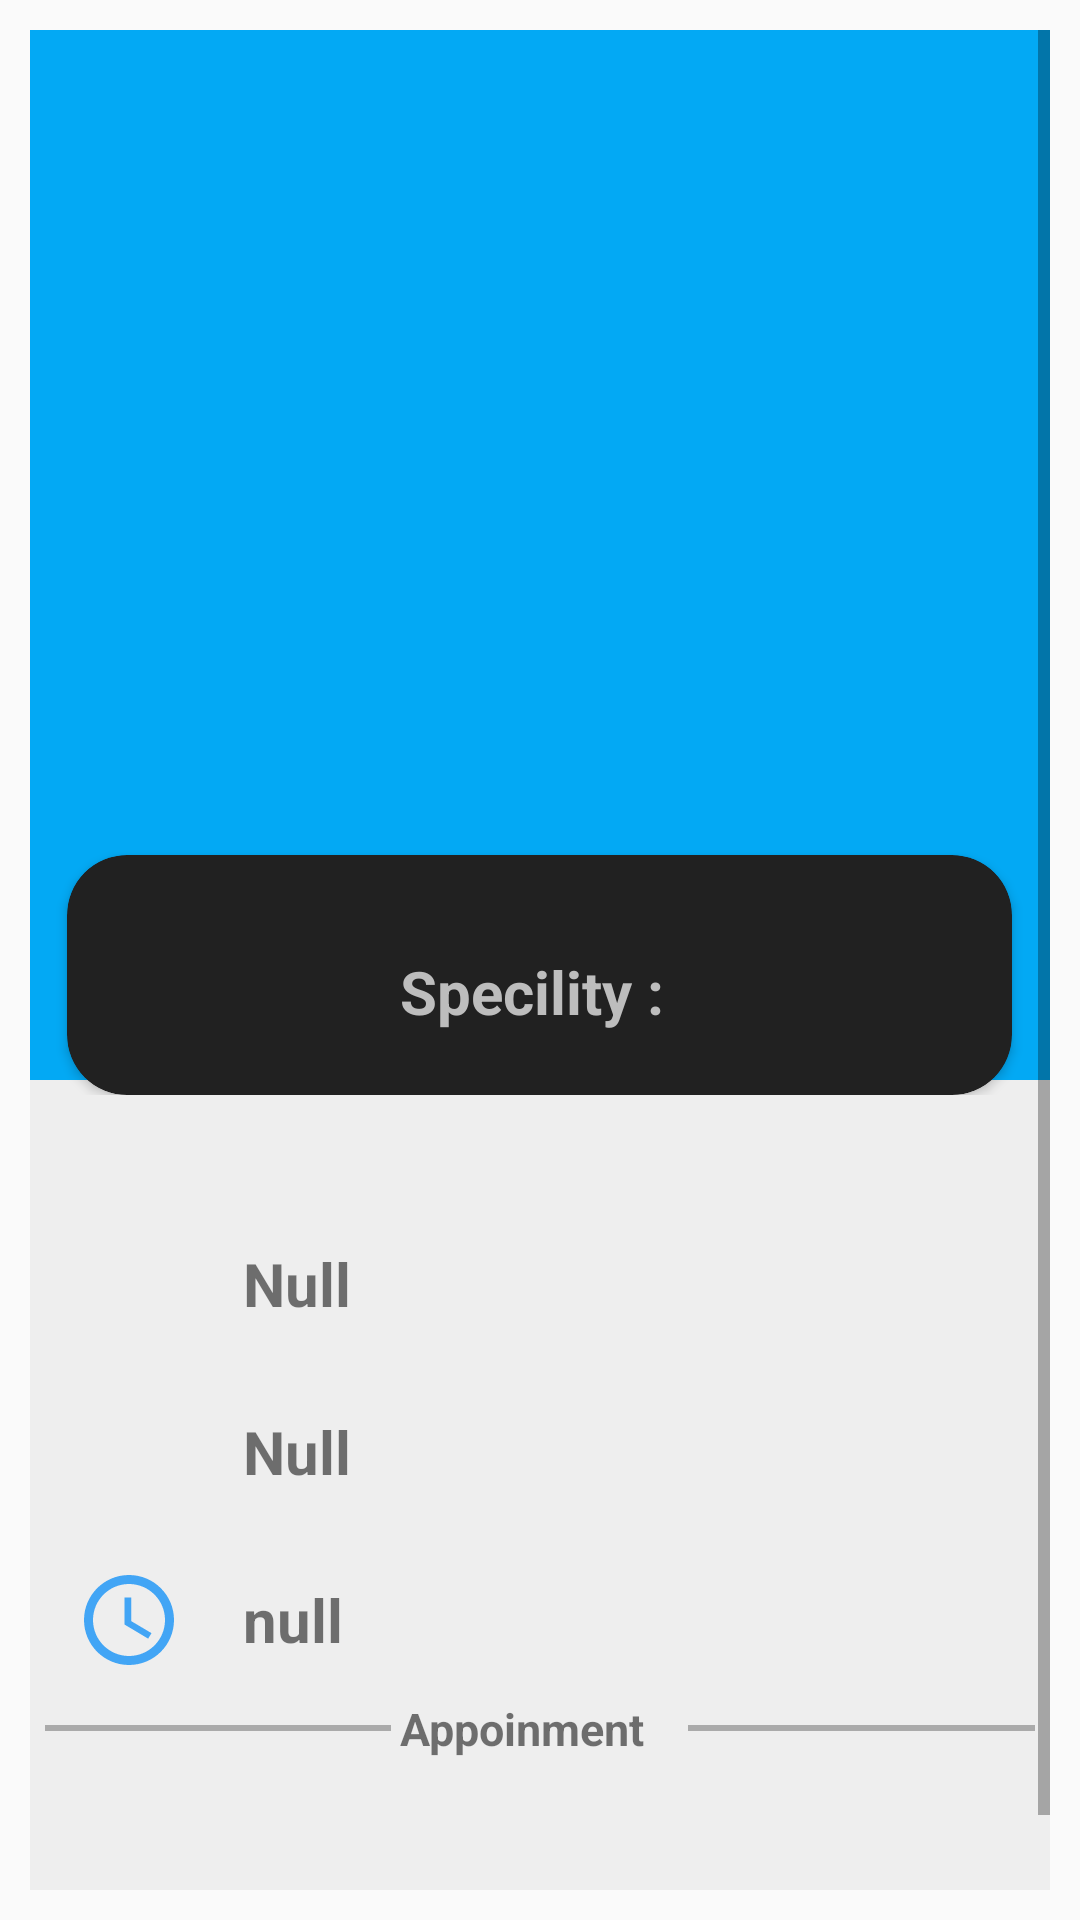

Icon bounding boxes for this 1080*1920 phone screenshot, format (x1, y1, x2, y2):
schedule: (84, 1575, 174, 1665)
